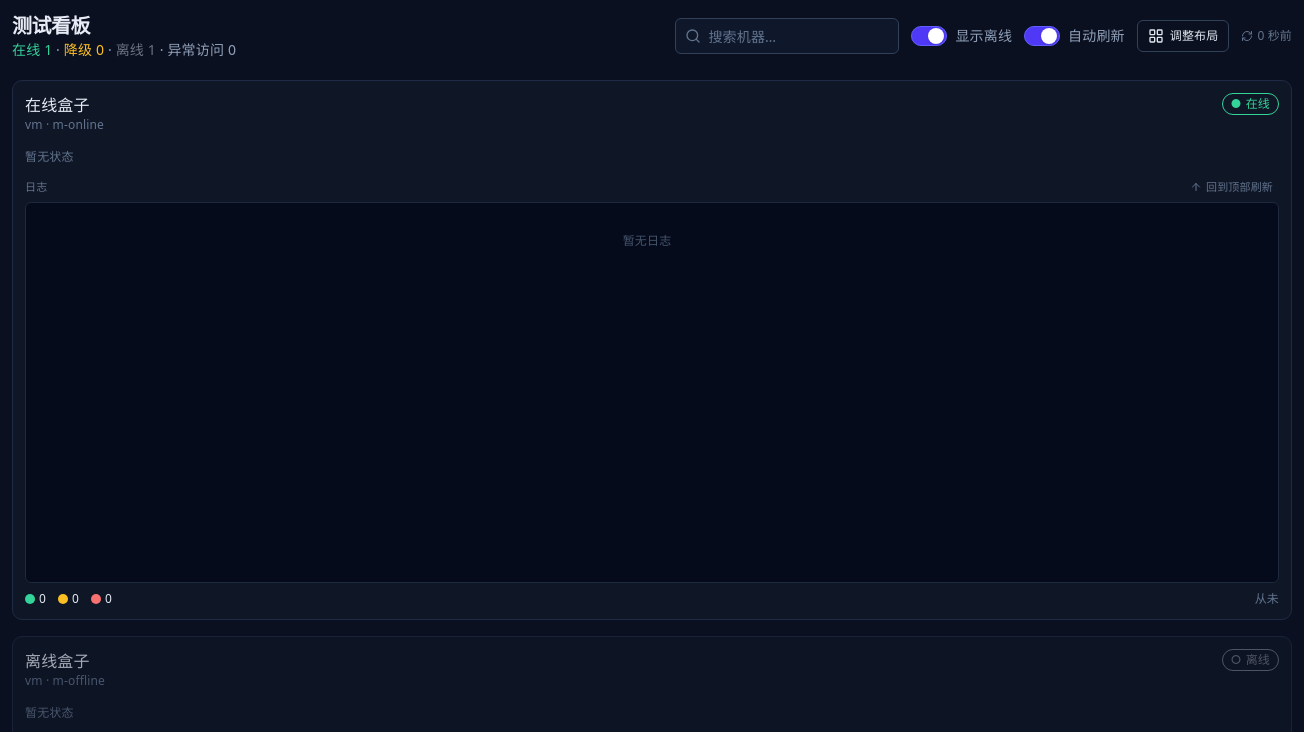
Test: DashboardPage offline visibility › hides offline machines when the switch is turned off
This screenshot has width=1304, height=732.
Expected: the link "离线盒子" is shown, 25,649 -> 90,673
Step 1. Click the switch named "显示离线" next to "显示离线" → (930, 36), box 912,26 -> 948,46
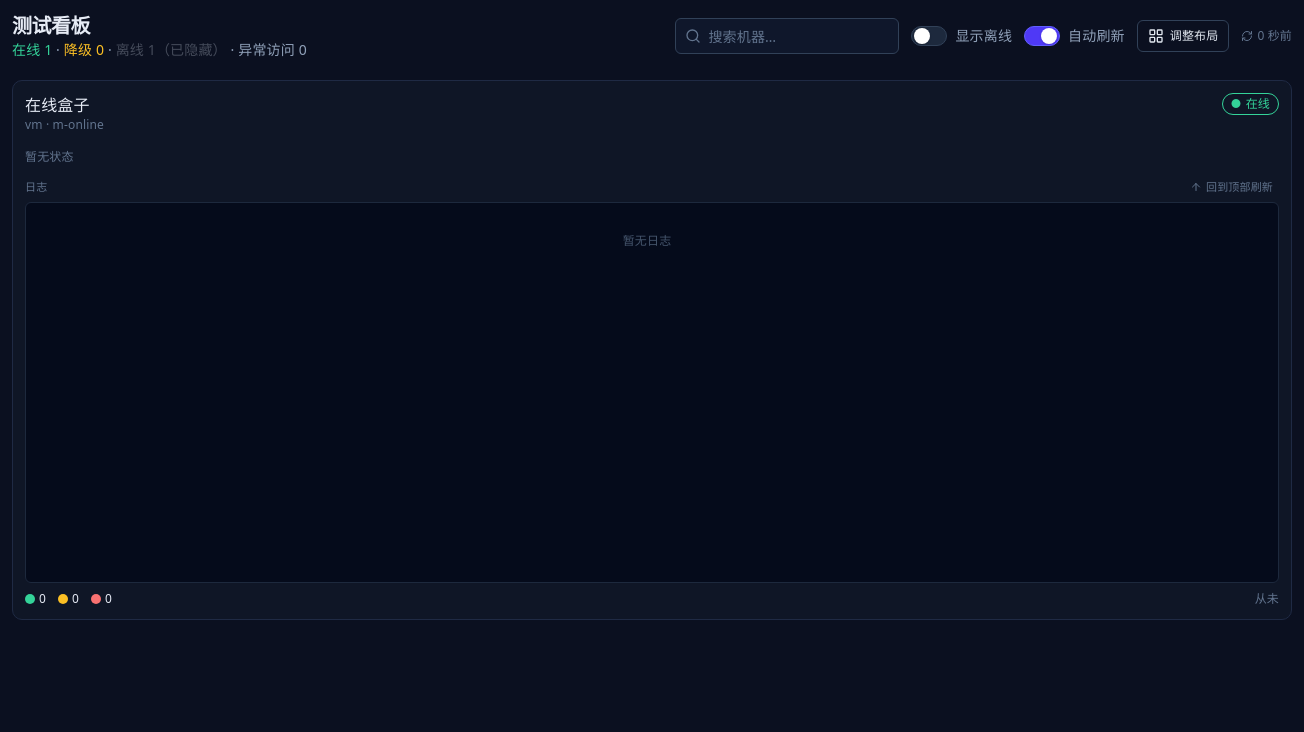
Expected: the link "在线盒子" is shown, 25,93 -> 90,117
Expected: the link "离线盒子" is gone
Expected: the button "离线 1（已隐藏）" is shown, 116,40 -> 227,60
